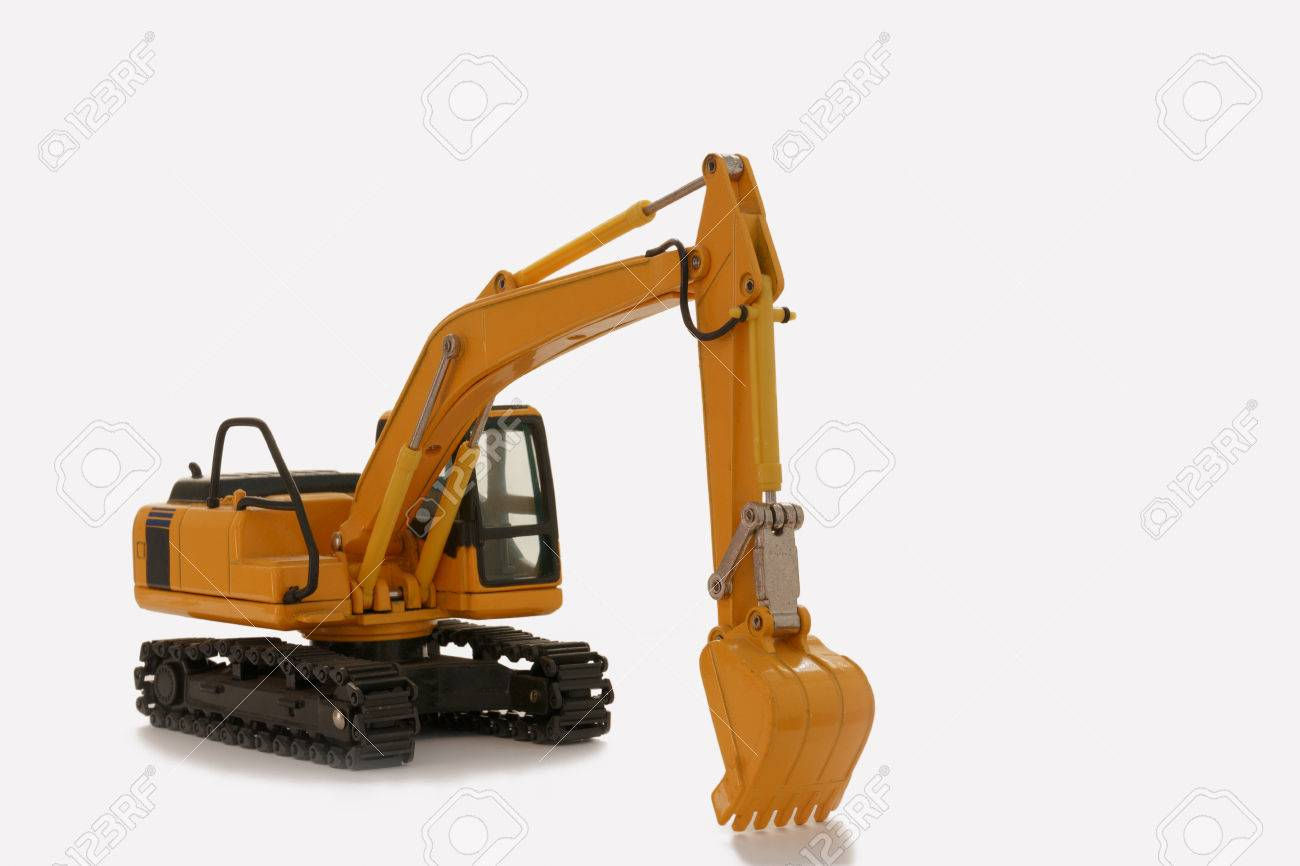backhoe: (133, 148, 878, 838)
